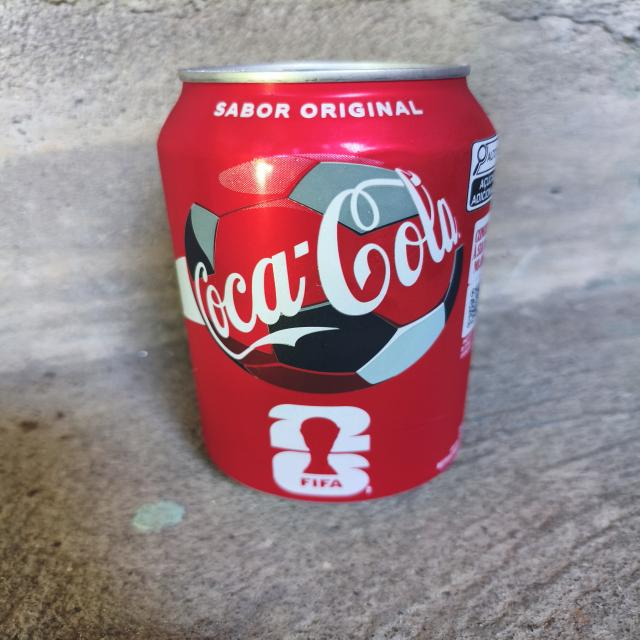Coca Cola: (130, 43, 521, 510)
